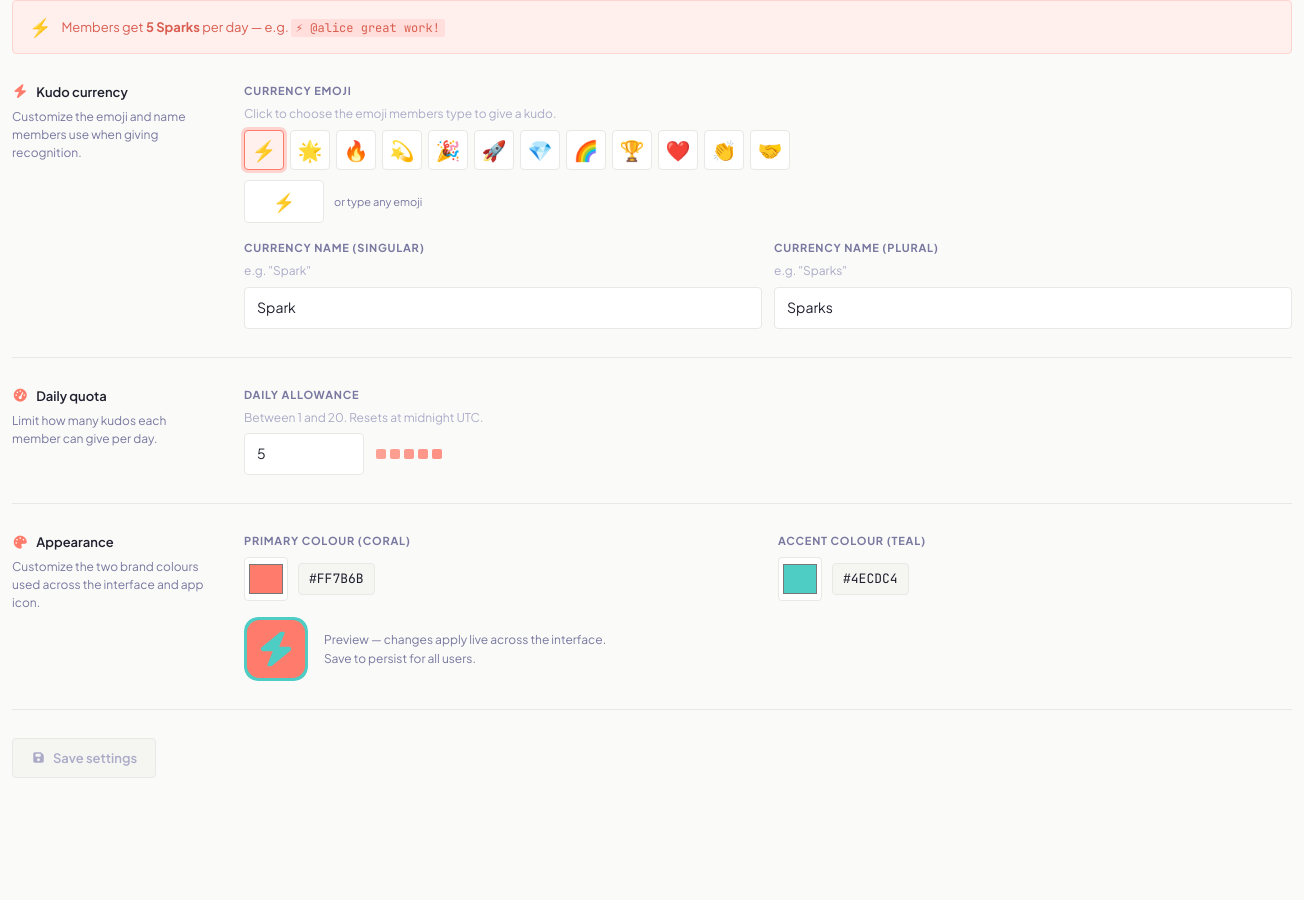
AdminSettingsForm – validation › shows error when daily allowance is 0
Replace the text in the number field labelled "Daily allowance" with "0" at (304, 454), box [244,433,364,475]
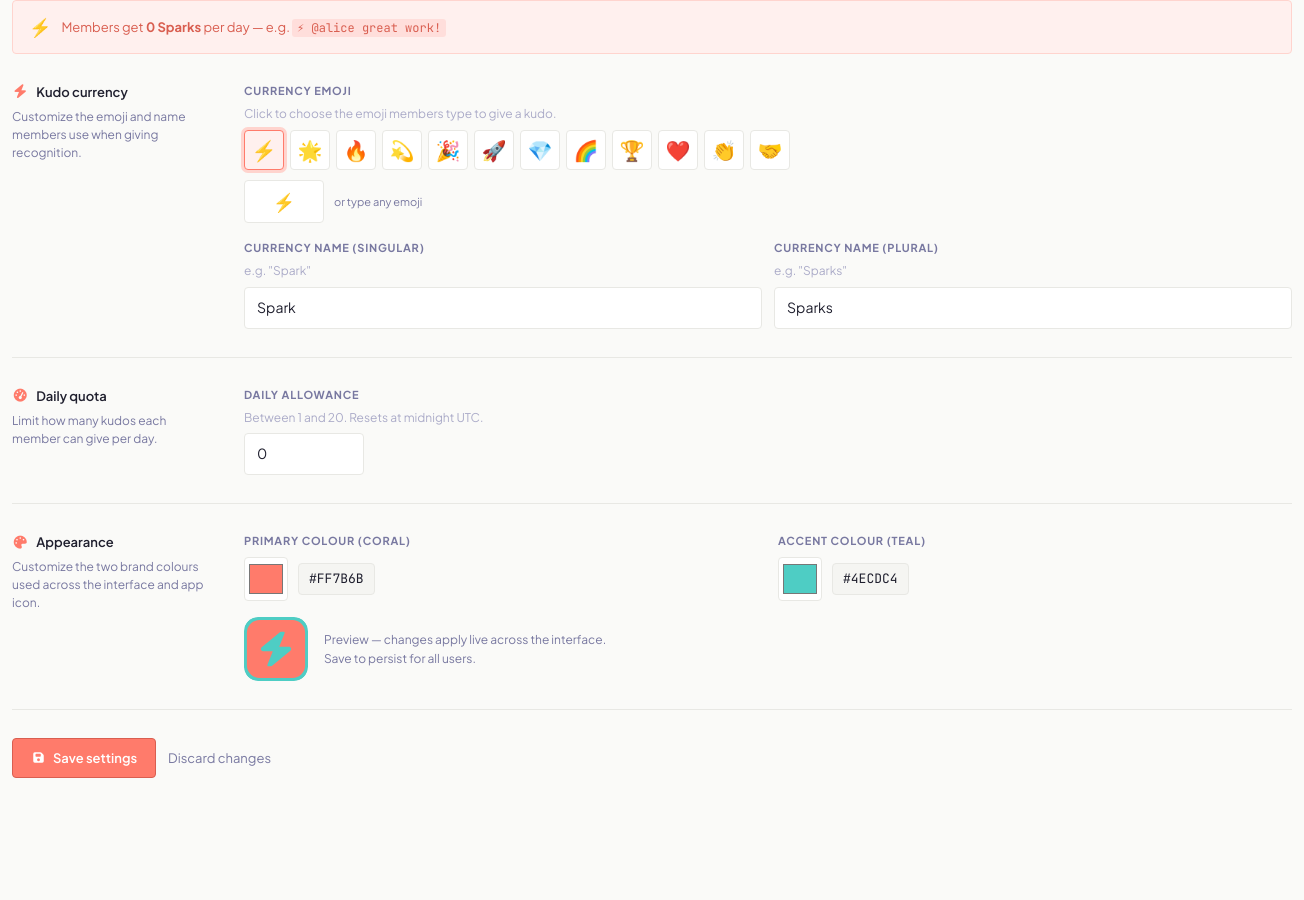
Click the button "Save settings".
click(84, 758)  # box [12,738,156,778]
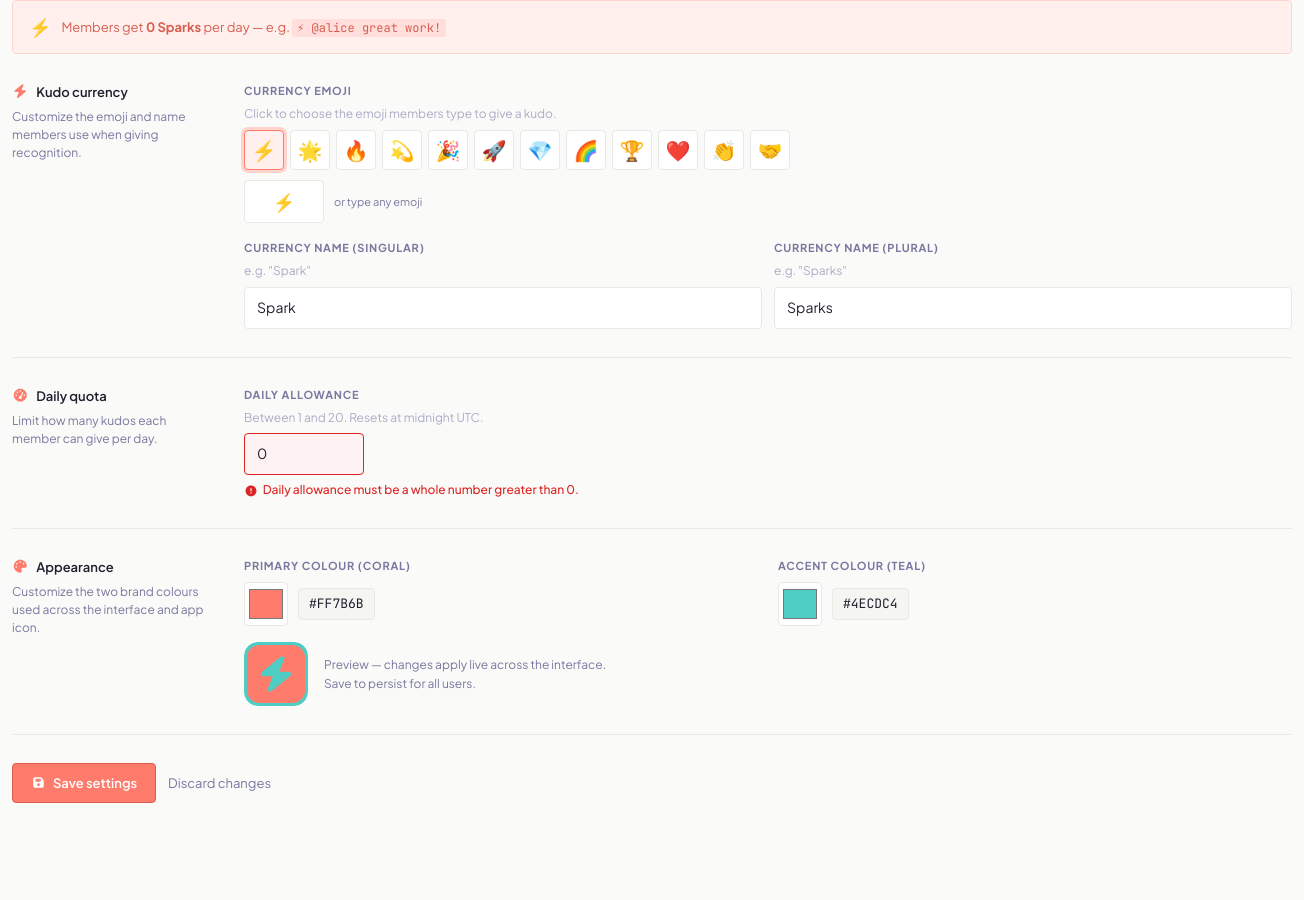
Expected: the text "Daily allowance must be a whole number greater than 0." is shown, [244,482,579,497]
